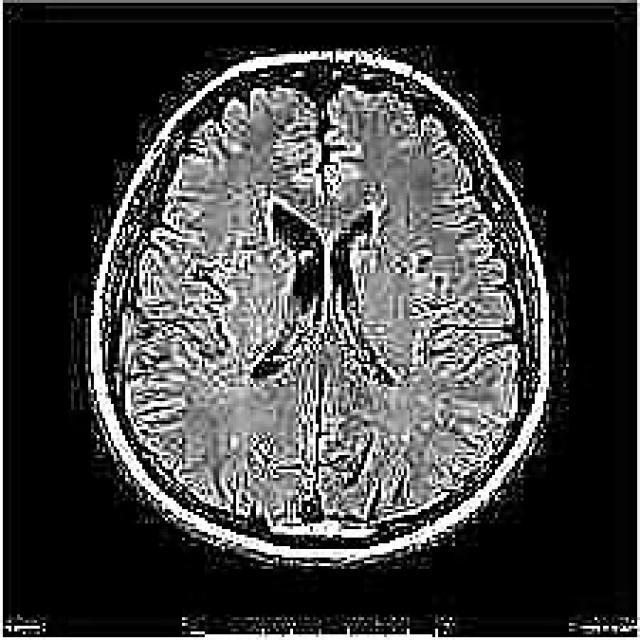notumor: (88, 51, 552, 566)
